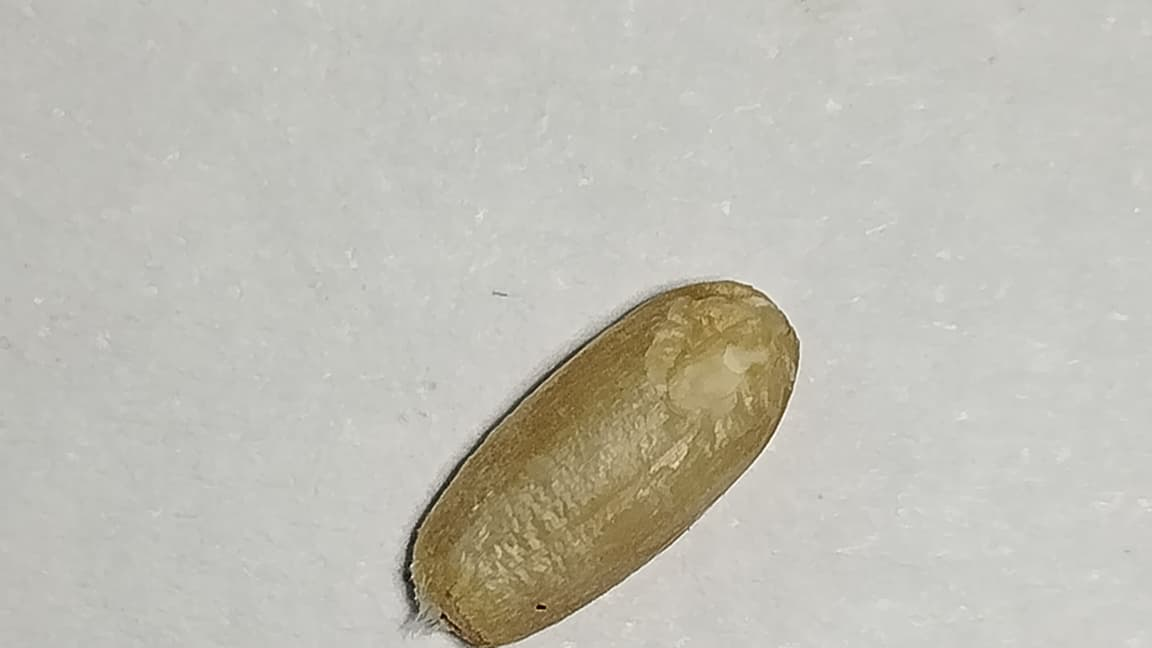healthy: (407, 279, 799, 647)
